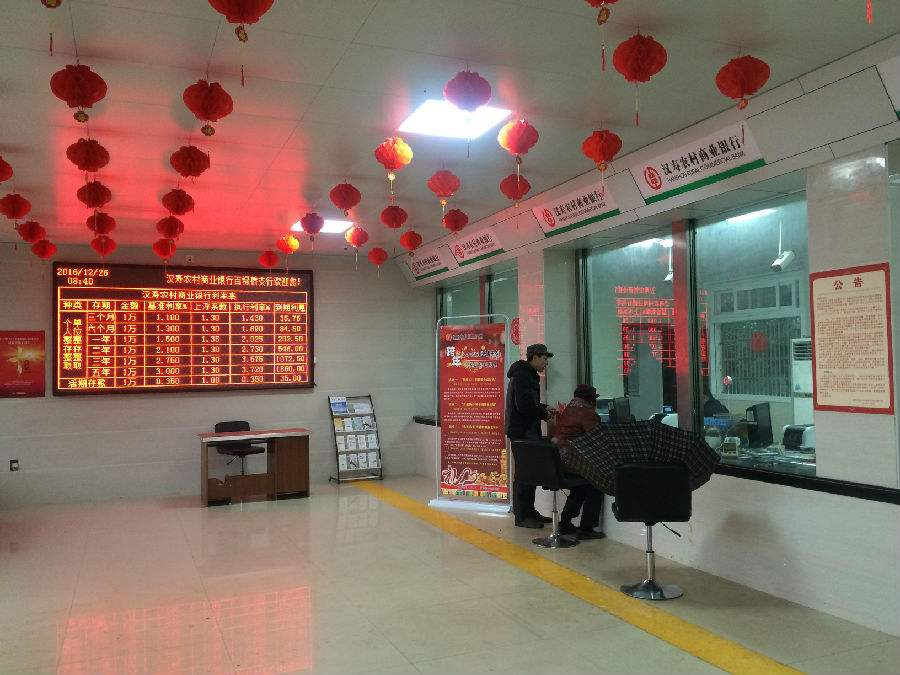bill: (811, 263, 890, 414), (439, 325, 506, 501), (3, 329, 47, 400)
